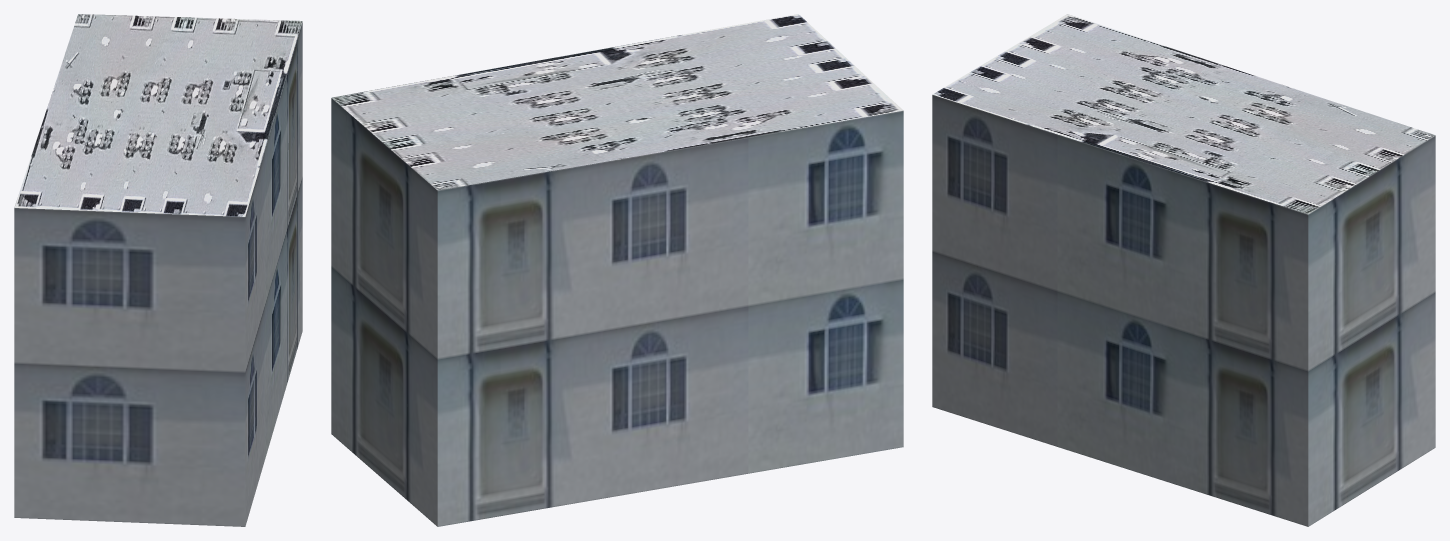
File: ResTex__3867.fbx
3 views of the same model, side by side, from view 1: azimuth 30°, elevation 25°; view 2: azimuth 150°, elevation 25°; view 3: azimuth 270°, elevation 25° (orthographic). The views are drawn at different scales.
Visible parts, largest first — view 1: CityEngineMaterial_17_m, CityEngineMaterial_m; view 2: CityEngineMaterial_17_m, CityEngineMaterial_m; view 3: CityEngineMaterial_17_m, CityEngineMaterial_m.
Boxes of the visible parts, x1,y1,x2,y2 form: CityEngineMaterial_17_m: [14, 22, 302, 526]; CityEngineMaterial_m: [14, 14, 302, 216]; CityEngineMaterial_17_m: [331, 98, 903, 526]; CityEngineMaterial_m: [331, 14, 903, 190]; CityEngineMaterial_17_m: [932, 95, 1435, 526]; CityEngineMaterial_m: [932, 14, 1435, 214].
Size of the model in its own units: 8.27 by 6 by 8.77.
2 materials, 2 textured.
